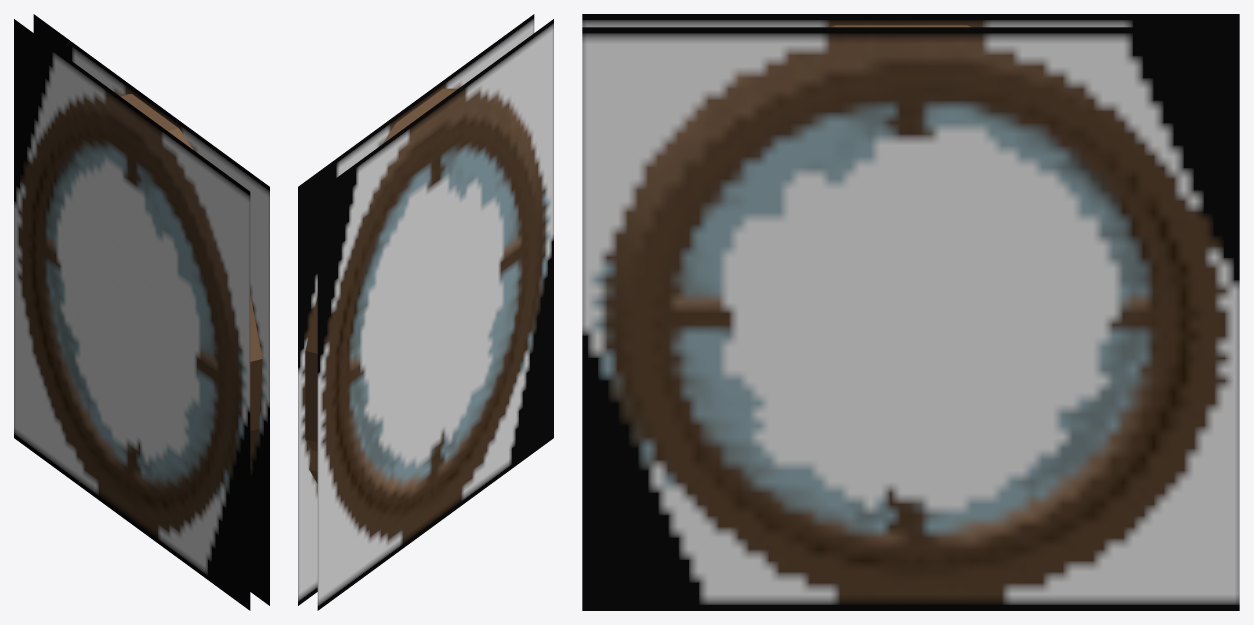
The model's file is pz_native_fixtures_windows_wood_86_frame.obj.
3 renders of one model, left to right at view 1: azimuth 30°, elevation 25°; view 2: azimuth 150°, elevation 25°; view 3: azimuth 270°, elevation 25°, orthographic. The views are drawn at different scales.
Visible parts, largest first — view 1: pz_native_fixtures_windows_wood_86_frame; view 2: pz_native_fixtures_windows_wood_86_frame; view 3: pz_native_fixtures_windows_wood_86_frame.
Part boxes in pixels (x1,y1,x2,y2): pz_native_fixtures_windows_wood_86_frame: (14,14,269,610); pz_native_fixtures_windows_wood_86_frame: (298,14,553,610); pz_native_fixtures_windows_wood_86_frame: (582,14,1239,610).
Bounding box in the file's own units: 0.04 × 0.8125 × 0.8293.
Materials: 1 (1 with a texture image).
